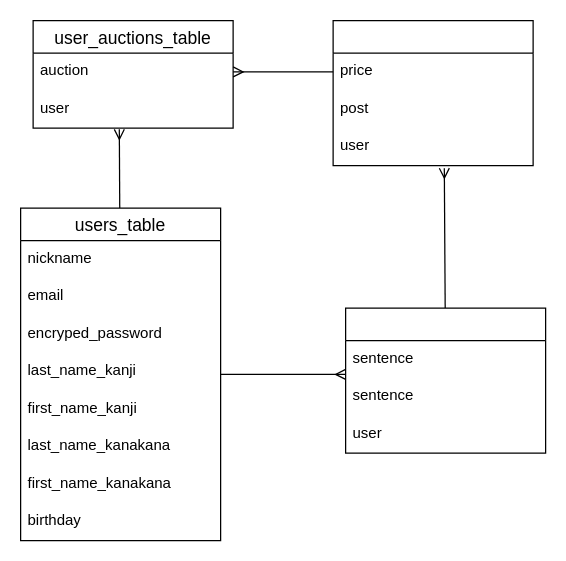
Some shapes in this 566 by 561 pixel diagram are drawn without their labels. Here are the shapes that lost their labels. From the top down, the box of each, then its label:
(332, 19, 533, 166): auctions_table
(344, 307, 546, 453): posts_table
